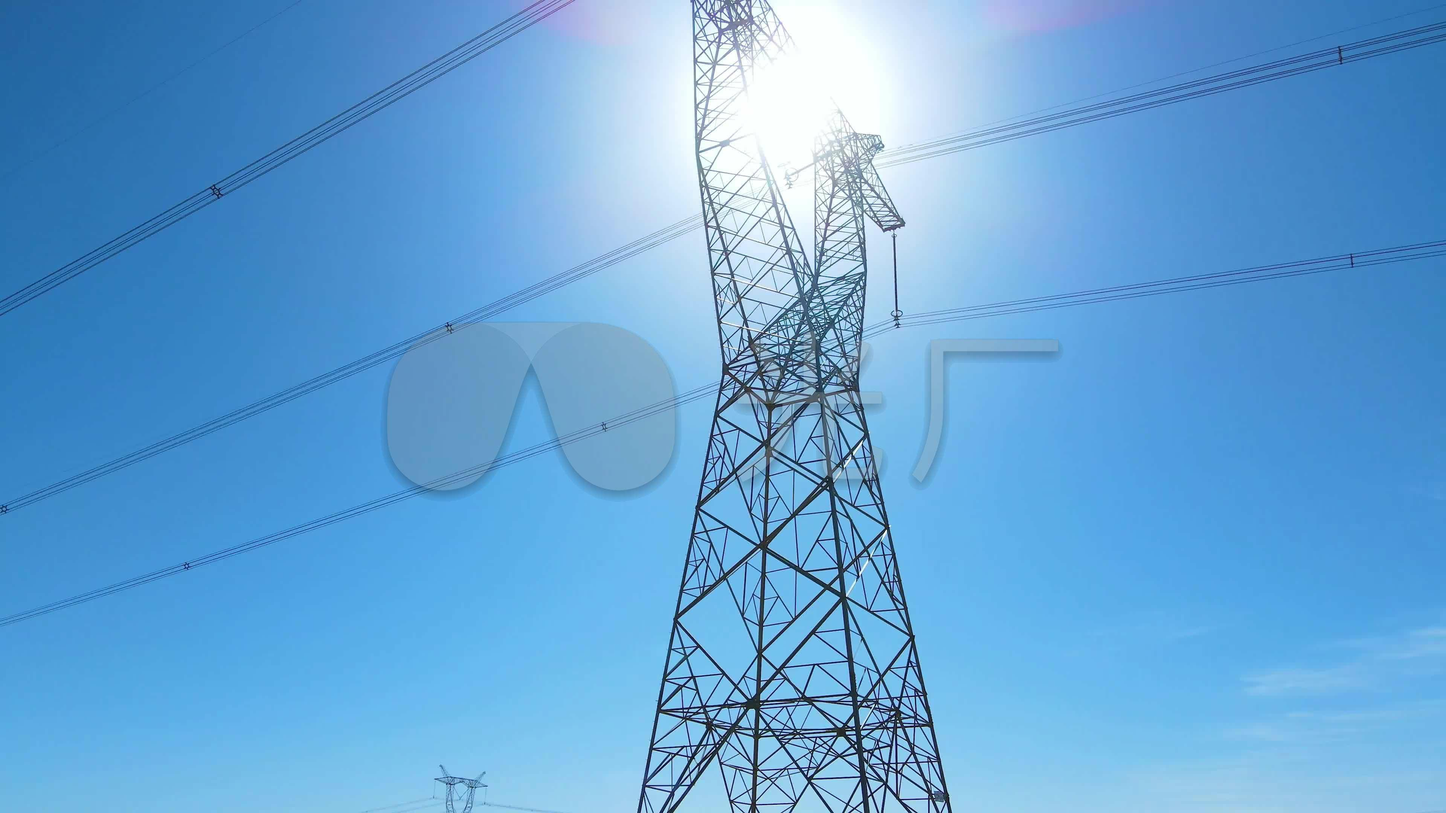power_tower: (628, 4, 964, 813)
